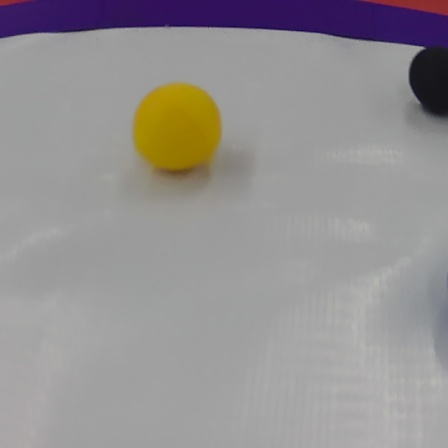black: (403, 43, 448, 116)
yellow: (123, 80, 224, 182)
